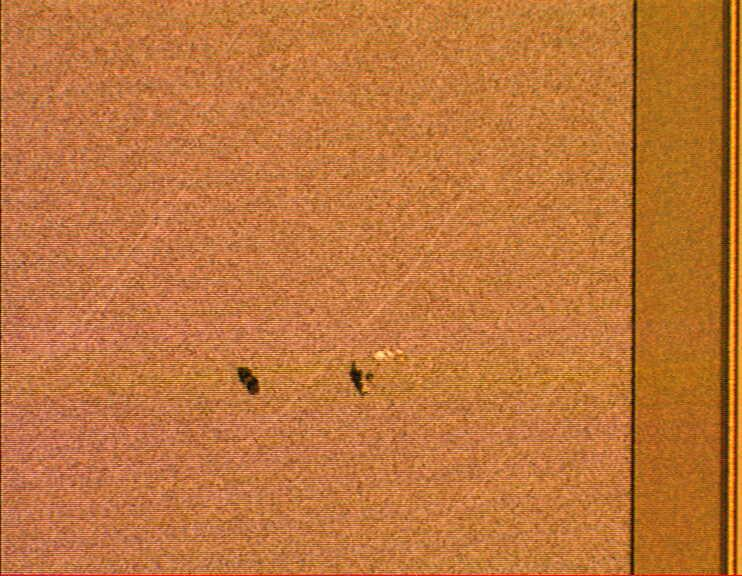SCRATCH: (38, 131, 489, 485)
